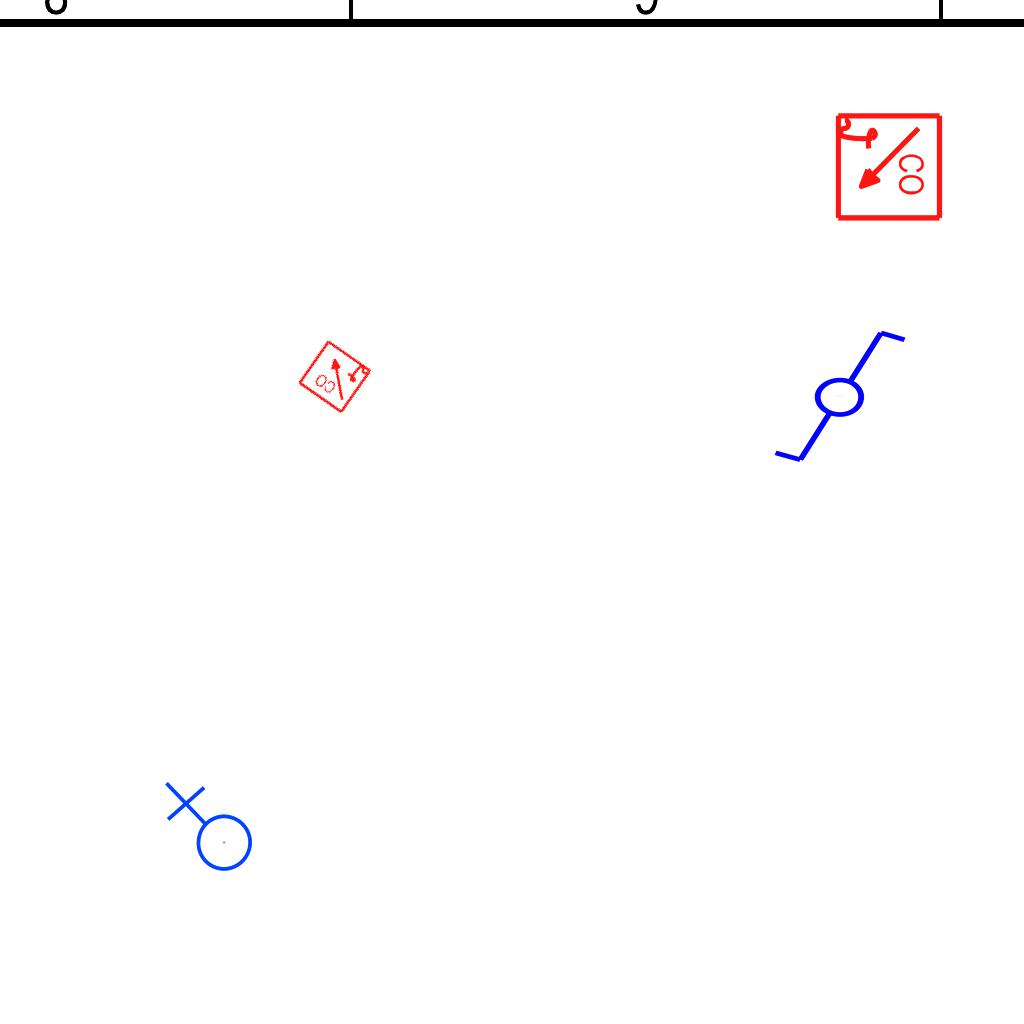Elektroanschluss_allgemein_230V_Geraeteanschlussdose_230V: (160, 781, 254, 880)
ROA_Rauchmelder_optisch_mit_Signalgeber_(Sockelsirene): (831, 111, 944, 224), (296, 337, 374, 415)
Wechselschalter: (753, 323, 910, 467)
